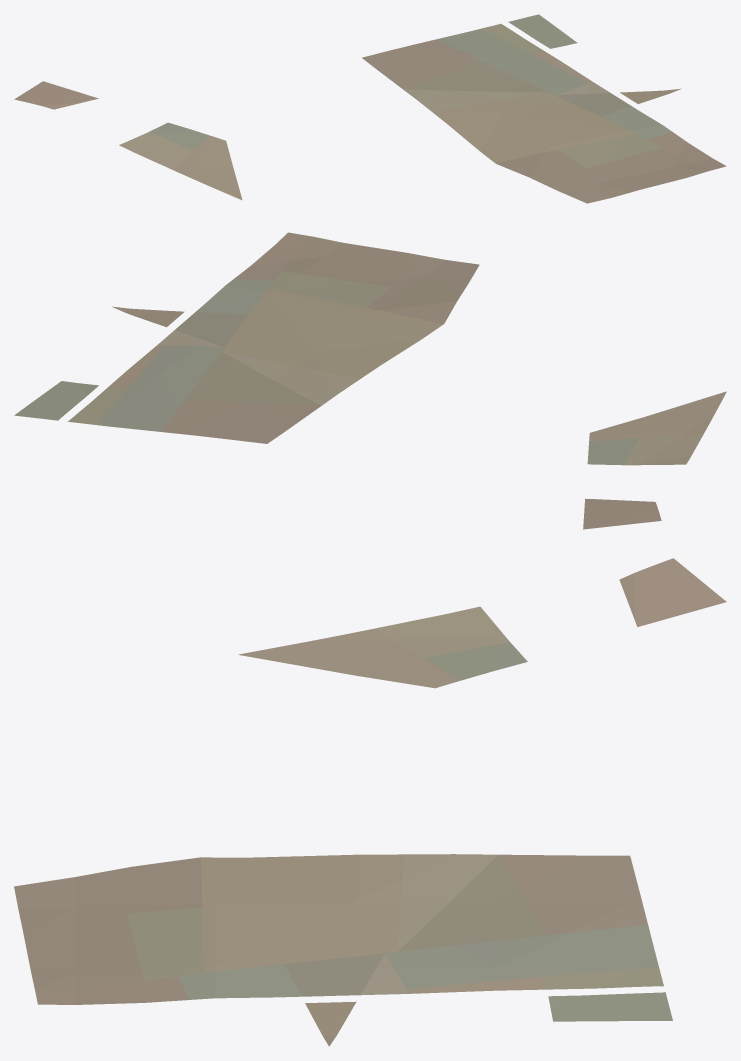
The model's file is farm_2_0_soil.glb.
3 views of the same model, one above another, from view 1: azimuth 30°, elevation 25°; view 2: azimuth 150°, elevation 25°; view 3: azimuth 270°, elevation 25° (orthographic). The views are drawn at different scales.
Visible parts, largest first — view 1: geometry_0; view 2: geometry_0; view 3: geometry_0.
Part boxes in pixels (x1,y1,x2,y2): geometry_0: (14,14,726,203); geometry_0: (14,232,726,529); geometry_0: (14,558,726,1046).
Size of the model in its own units: 570 by 42.83 by 408.
